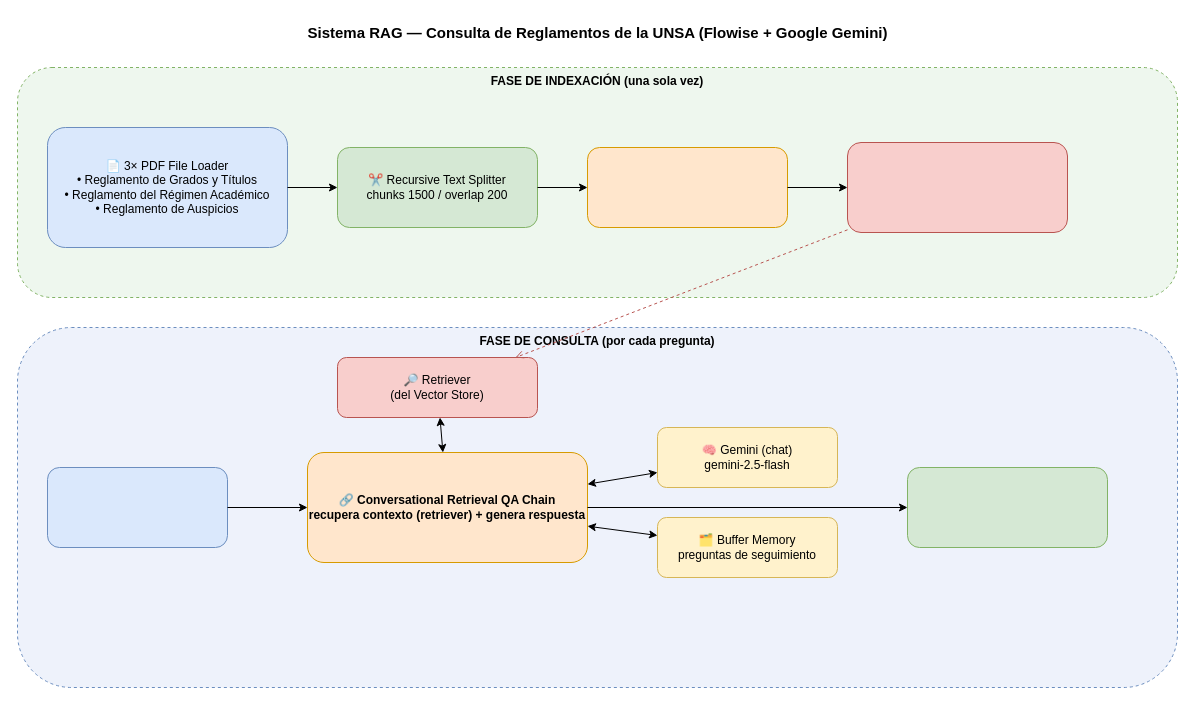
This 1195x705 diagram has some shape labels left out. Here are the shapes that lost their labels. From the top down, the centre of each, then its label:
(687,187): 🔢 Gemini Embeddings gemini-embedding-001
(957,187): 🗄️ In-Memory Vector Store índice vectorial (Top K = 4)
(137,507): 👤 Usuario pregunta en lenguaje natural
(1007,507): 📄 Respuesta fundamentada + documentos fuente
